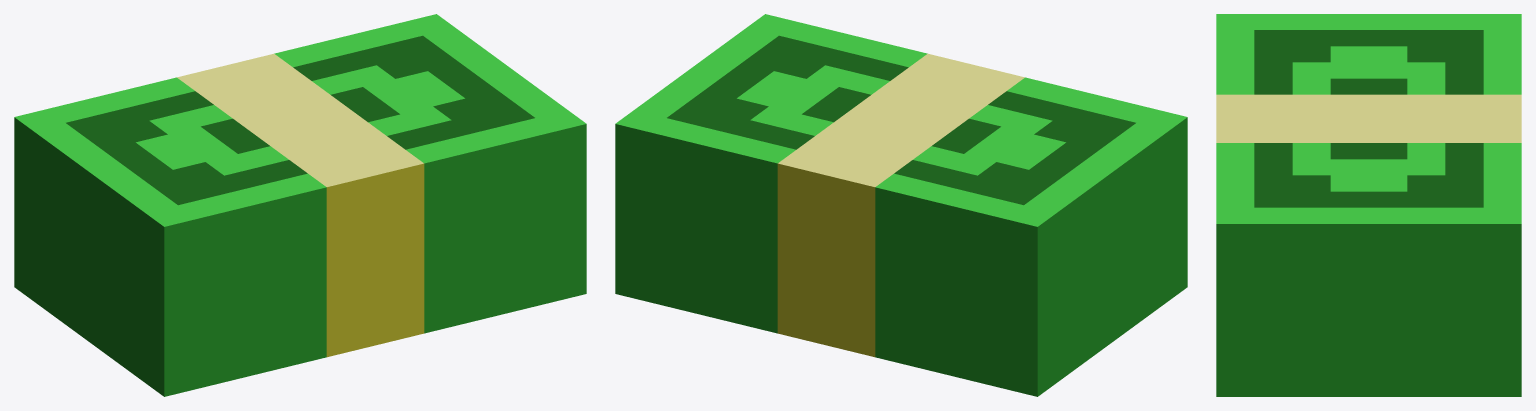
Rendered from CashA.fbx.
3 renders of one model, left to right at view 1: azimuth 30°, elevation 25°; view 2: azimuth 150°, elevation 25°; view 3: azimuth 270°, elevation 25°, orthographic.
Parts seen in each view (by area): view 1: CashA; view 2: CashA; view 3: CashA.
Boxes of the visible parts, bbox=[...] form: CashA: bbox=[14, 14, 586, 396]; CashA: bbox=[615, 14, 1187, 396]; CashA: bbox=[1216, 14, 1521, 396].
Size of the model in its own units: 130 by 50 by 80.
